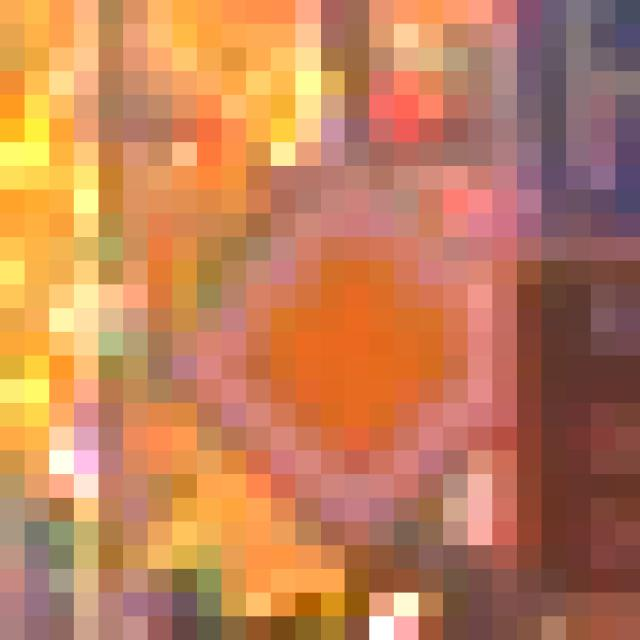Main Road: (124, 120, 493, 523)
